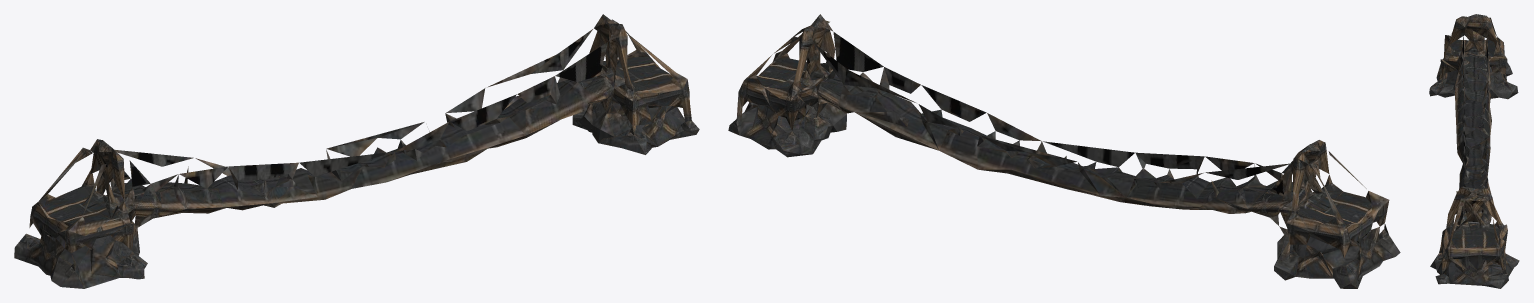
Rendered from stunt-suspension-bridge.lod.glb.
The picture shows the model from 3 angles, left to right: view 1: azimuth 30°, elevation 25°; view 2: azimuth 150°, elevation 25°; view 3: azimuth 270°, elevation 25°; orthographic projection. The views are drawn at different scales.
Parts seen in each view (by area): view 1: output_unwrapped; view 2: output_unwrapped; view 3: output_unwrapped.
Boxes of the visible parts, x1,y1,x2,y2 form: output_unwrapped: (14, 14, 699, 288); output_unwrapped: (728, 14, 1400, 288); output_unwrapped: (1429, 14, 1519, 288).
Bounding box in the file's own units: 1.86 × 0.3253 × 0.3241.
1 material, 1 textured.
